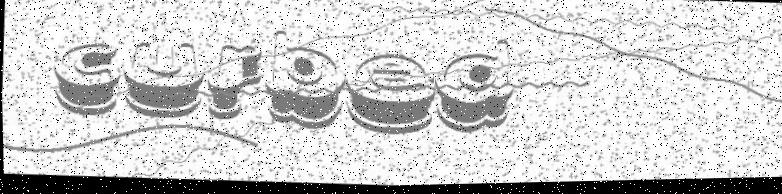b: (261, 27, 347, 133)
c: (42, 34, 125, 118)
d: (427, 35, 517, 136)
e: (341, 48, 439, 141)
r: (206, 35, 263, 123)
u: (121, 37, 209, 119)
